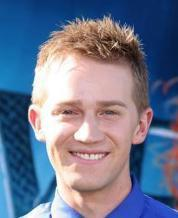face: (55, 100, 125, 167)
